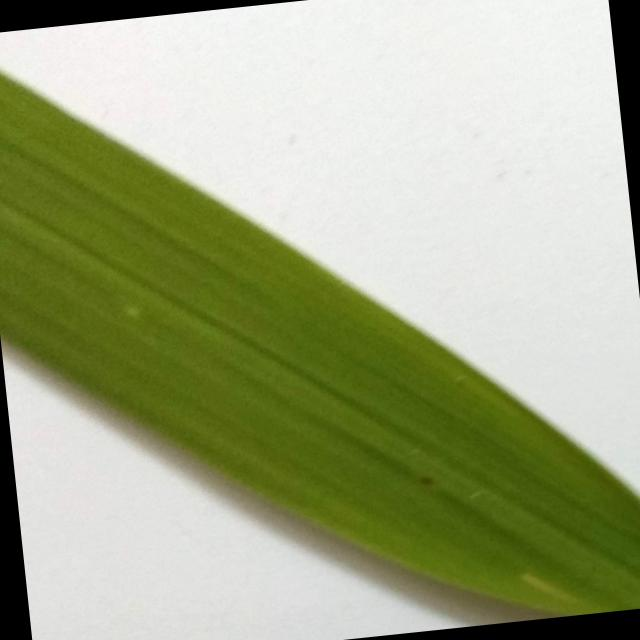Rice_Healthy: (0, 73, 640, 615)
